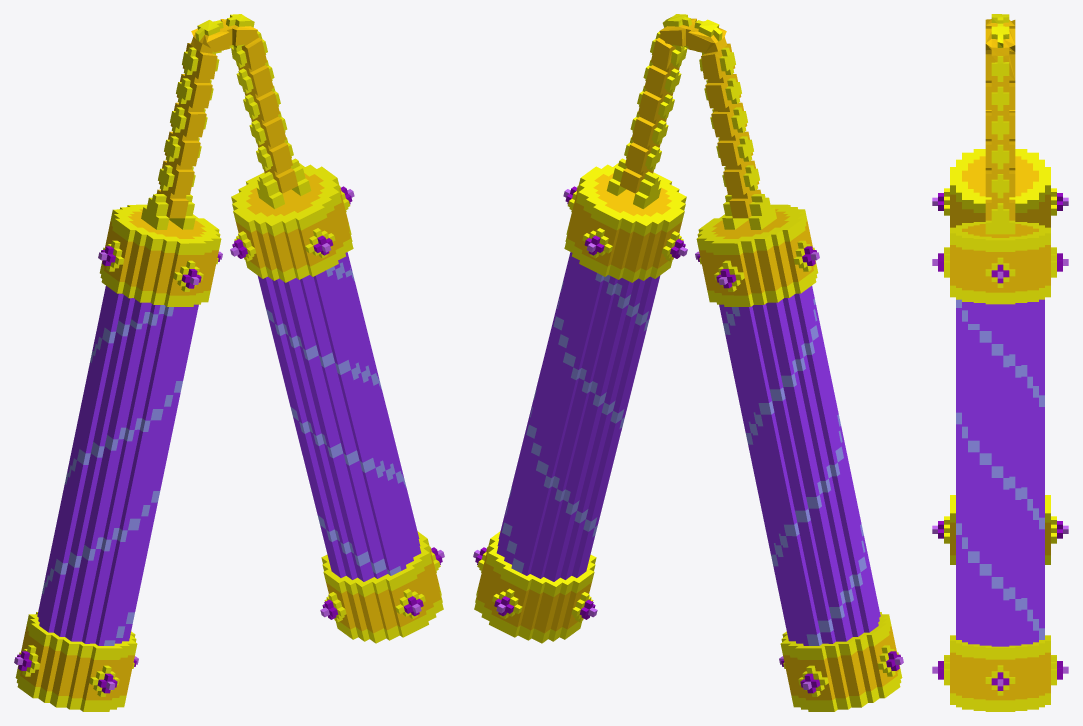
File: nunchaku-lv3.glb
3 views of the same model, side by side, from view 1: azimuth 30°, elevation 25°; view 2: azimuth 150°, elevation 25°; view 3: azimuth 270°, elevation 25° (orthographic). The views are drawn at different scales.
Visible parts, largest first — view 1: nunchaku lv3; view 2: nunchaku lv3; view 3: nunchaku lv3.
Boxes of the visible parts, <box> form: nunchaku lv3: <box>14,14,444,711</box>; nunchaku lv3: <box>473,14,903,711</box>; nunchaku lv3: <box>932,14,1068,711</box>.
Size of the model in its own units: 0.688 by 0.9916 by 0.1991.
Materials: 1 (1 with a texture image).
